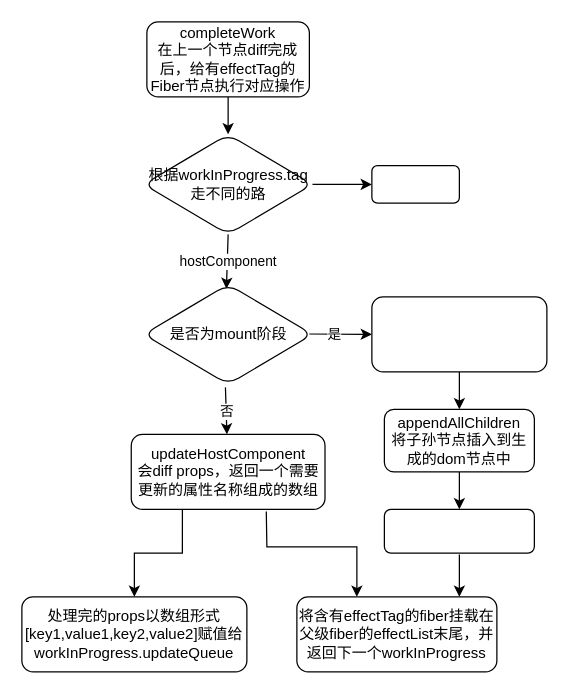
This 569x694 diagram has some shape labels left out. Here are the shapes that lost their labels. From the top down, the centre of each, then its label:
the point at 415,183: 其他类型
the point at 459,334: createInstance 为fiber创建对应dojm节点赋值给fiber.stateNode
the point at 458,530: 初始化dom对象的事件监听器和内部属性
